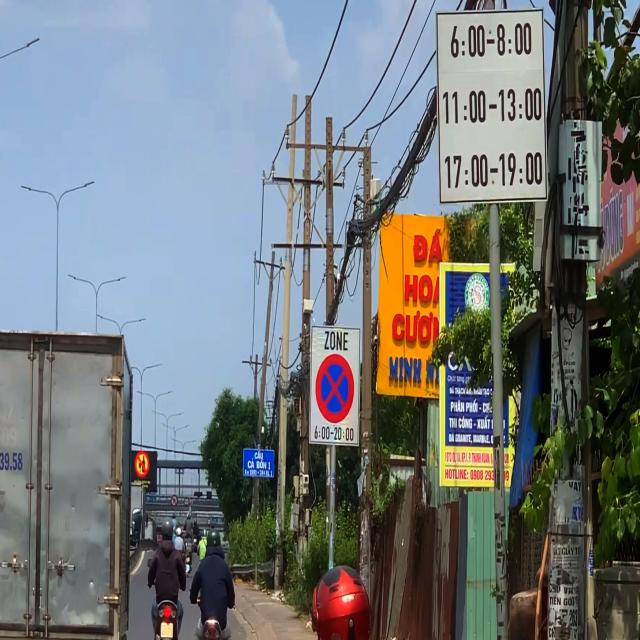Cam dung va do: (314, 352, 356, 426)
